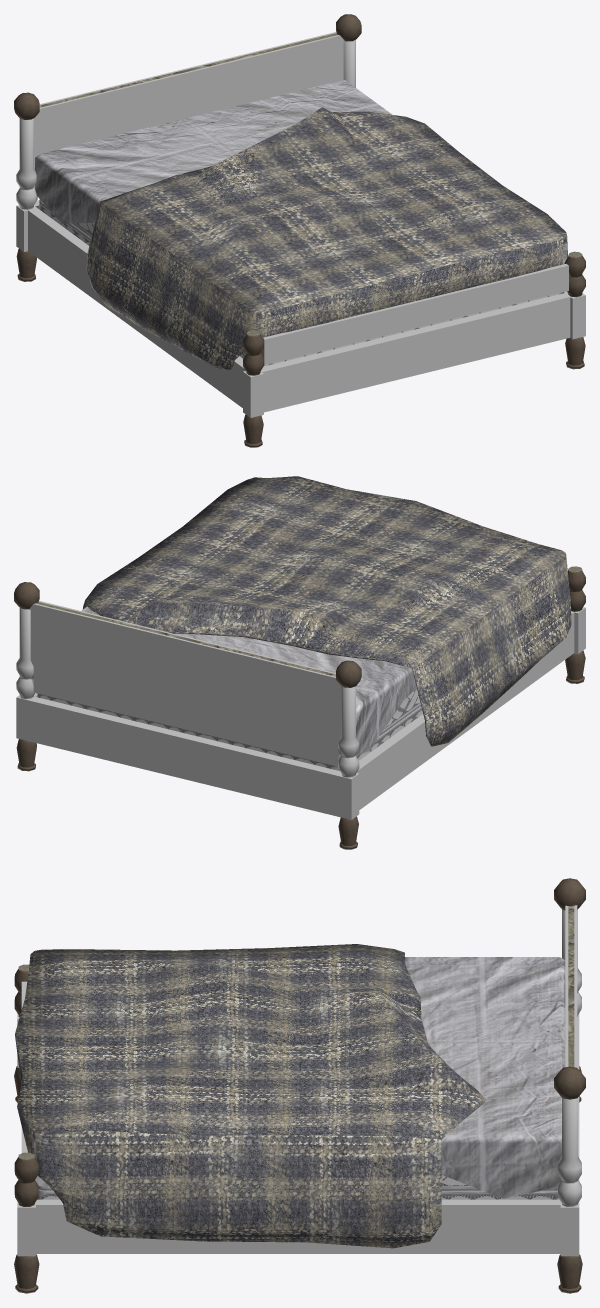
File: BedFullBlanket.fbx
The picture shows the model from 3 angles, top to bottom: view 1: azimuth 30°, elevation 25°; view 2: azimuth 150°, elevation 25°; view 3: azimuth 270°, elevation 25°; orthographic projection. The views are drawn at different scales.
Visible parts, largest first — view 1: BedAFullBlanket; view 2: BedAFullBlanket; view 3: BedAFullBlanket.
Boxes of the visible parts, <box> form: BedAFullBlanket: <box>14,14,585,447</box>; BedAFullBlanket: <box>14,476,585,849</box>; BedAFullBlanket: <box>14,878,585,1293</box>.
Bounding box in the file's own units: 249 × 120 × 283.
